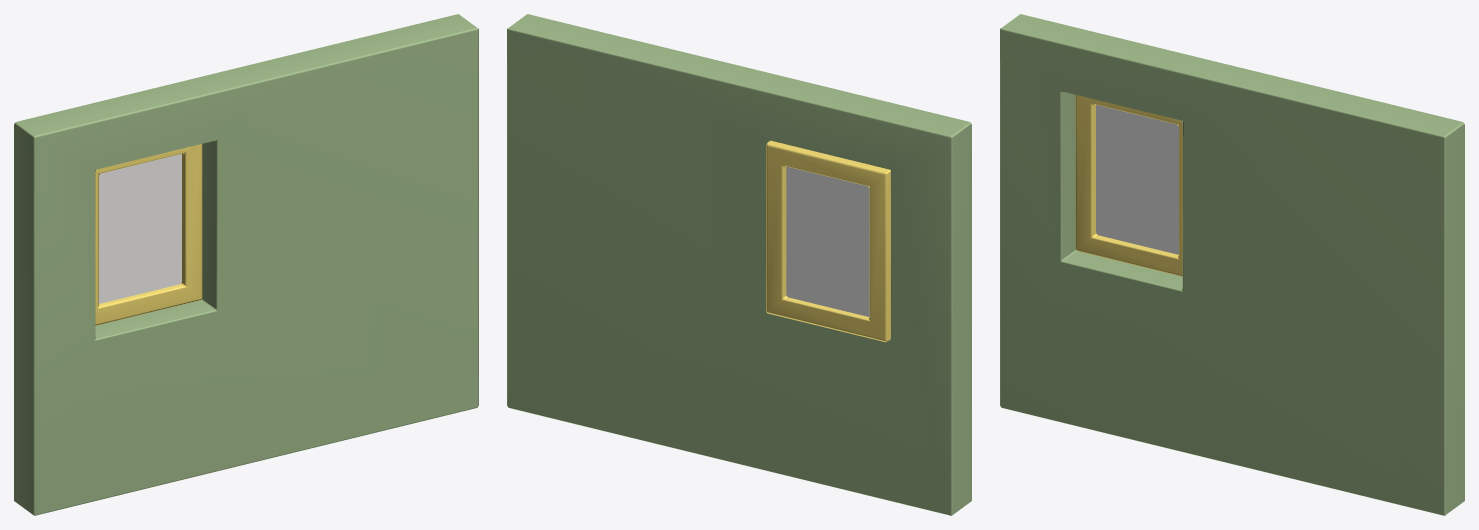
Rendered from Wall_green_window.glb.
3 views of the same model, side by side, from view 1: azimuth 30°, elevation 25°; view 2: azimuth 150°, elevation 25°; view 3: azimuth 330°, elevation 25° (orthographic).
Visible parts, largest first — view 1: Wall_20; view 2: Wall_20; view 3: Wall_20.
Part boxes in pixels (x1=…): Wall_20: x1=14, y1=14, x2=478, y2=515; Wall_20: x1=507, y1=14, x2=971, y2=515; Wall_20: x1=1000, y1=14, x2=1464, y2=515.
Bounding box in the file's own units: 4.98 × 4.06 × 0.4696.
Materials: 2 (2 with a texture image).
